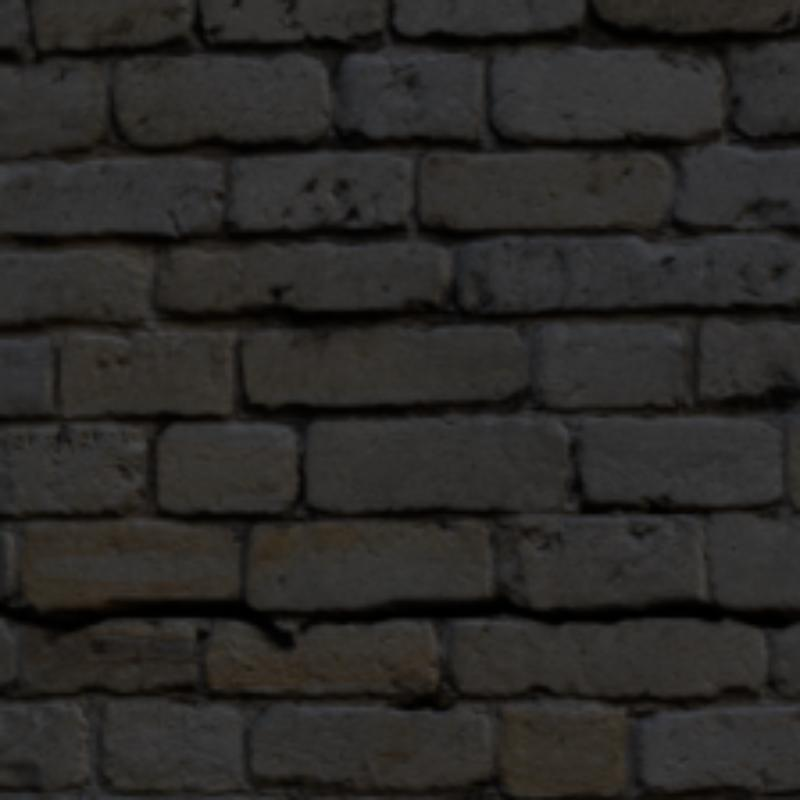pothole: (296, 593, 796, 632), (0, 596, 293, 646)
